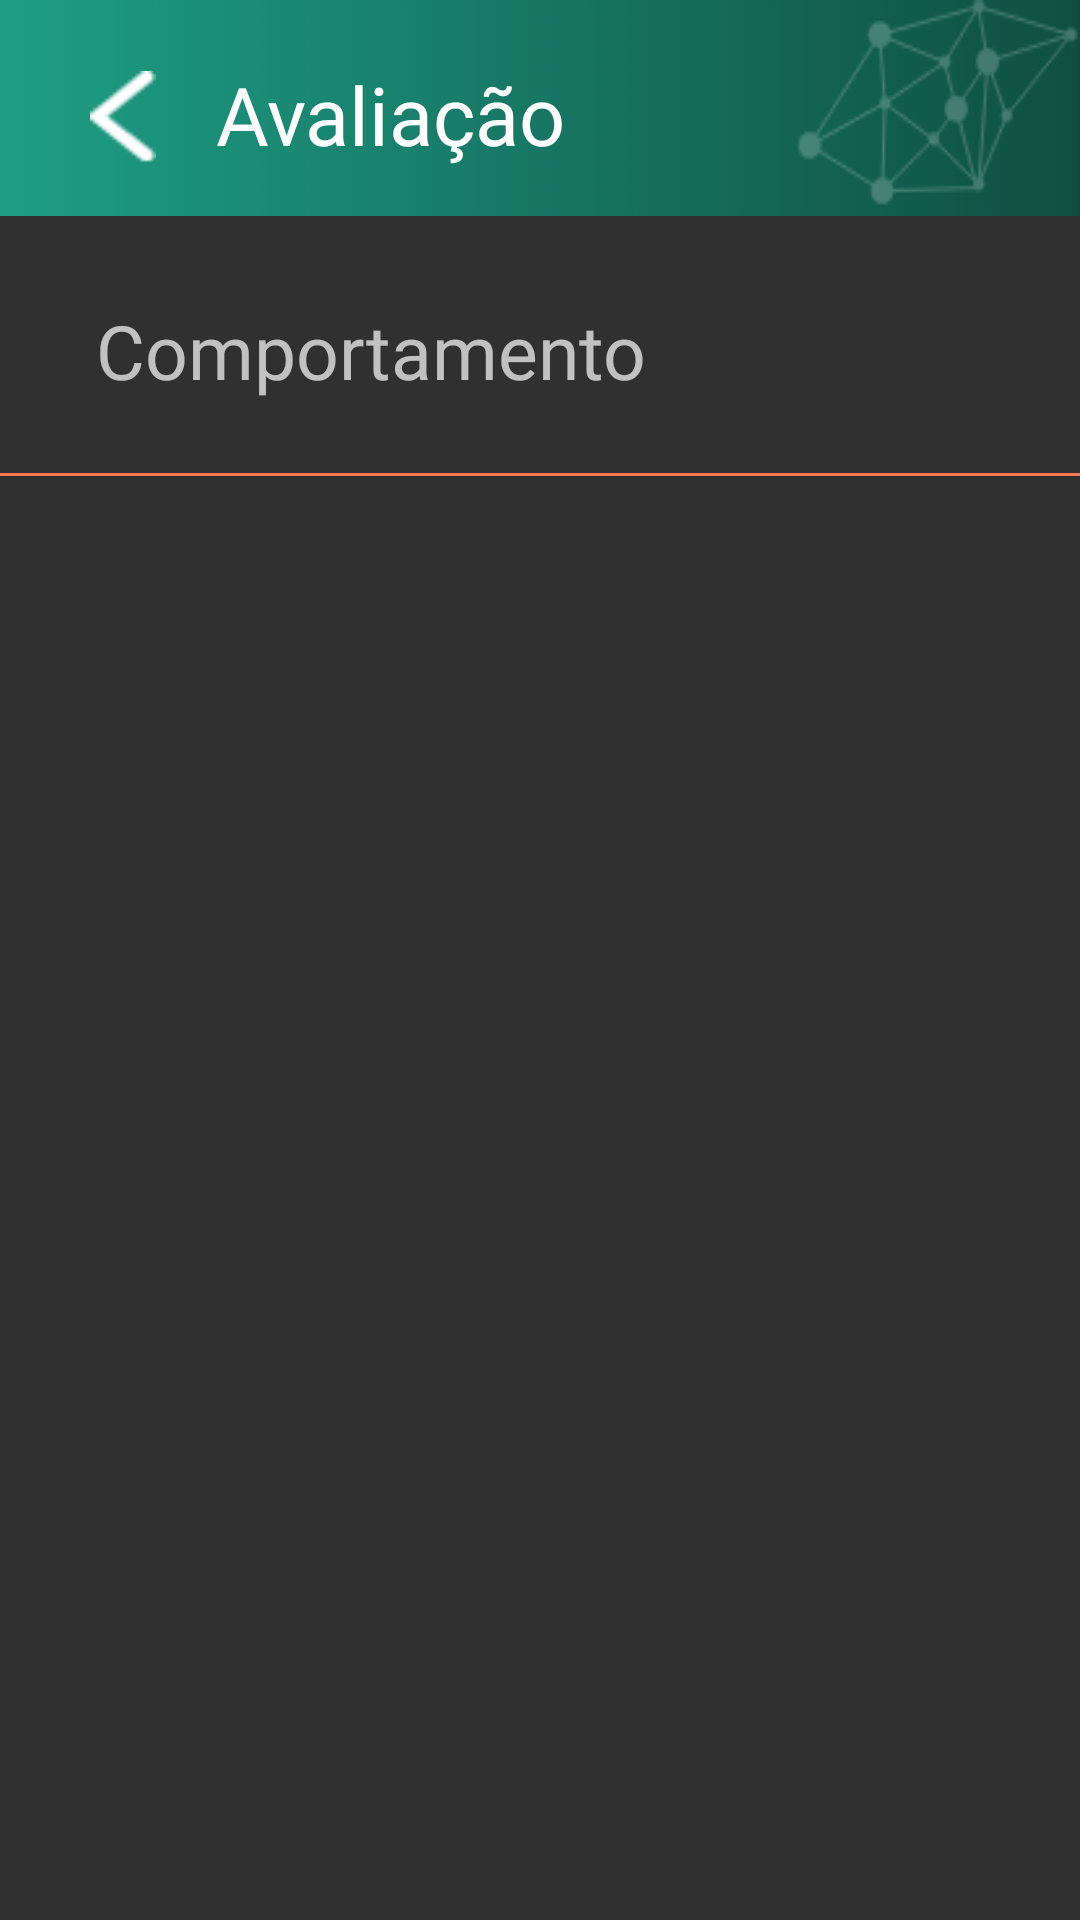

Icon click points for this 1080px×1920px phone screenshot, format [x,y]:
back arrow: [123,116]
